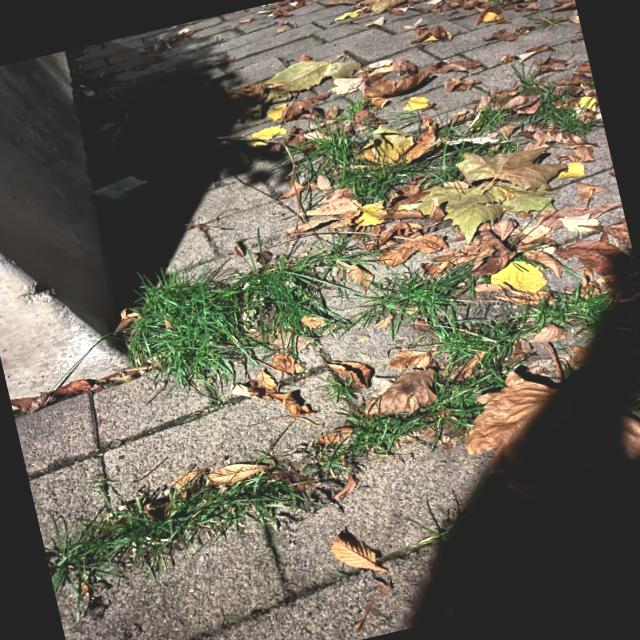weed: (38, 424, 379, 588), (329, 256, 615, 442), (102, 240, 368, 395)
